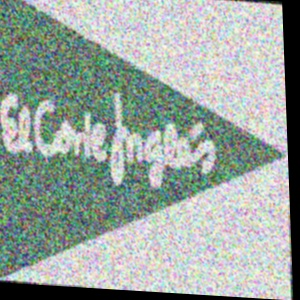corte_ingles: (214, 45, 222, 141)
